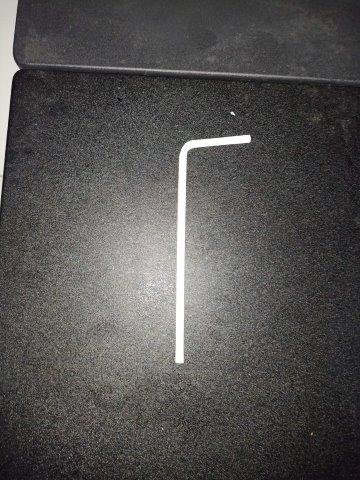sedotan: (175, 134, 251, 363)
